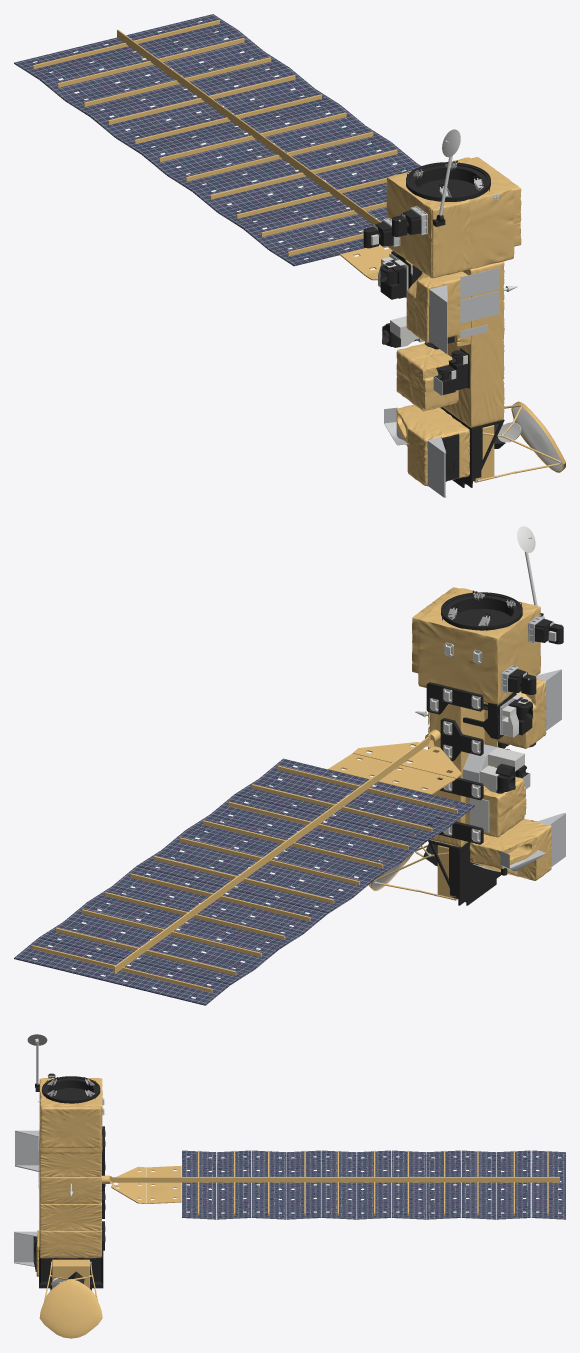
Rendered from aqua.glb.
The picture shows the model from 3 angles, top to bottom: view 1: azimuth 30°, elevation 25°; view 2: azimuth 150°, elevation 25°; view 3: azimuth 270°, elevation 25°; orthographic projection. The views are drawn at different scales.
Visible parts, largest first — view 1: Aqua_Reduced_v0014 [Aqua_Layered_02 [Layer2]], Aqua_Reduced_v0014 [Aqua_Layered_02 [(unnamed)]], Aqua_Reduced_v0014 [Aqua_Layered_02 [Layer10]], Aqua_Reduced_v0014 [Aqua_Layered_02 [Layer12]], Aqua_Reduced_v0014 [Aqua_Layered_02 [Layer15]]; view 2: Aqua_Reduced_v0014 [Aqua_Layered_02 [Layer2]], Aqua_Reduced_v0014 [Aqua_Layered_02 [(unnamed)]], Aqua_Reduced_v0014 [Aqua_Layered_02 [Layer10]], Aqua_Reduced_v0014 [Aqua_Layered_02 [Layer15]], Aqua_Reduced_v0014 [Aqua_Layered_02 [Layer12]]; view 3: Aqua_Reduced_v0014 [Aqua_Layered_02 [Layer2]], Aqua_Reduced_v0014 [Aqua_Layered_02 [(unnamed)]], Aqua_Reduced_v0014 [Aqua_Layered_02 [Layer10]], Aqua_Reduced_v0014 [Aqua_Layered_02 [Layer12]], Aqua_Reduced_v0014 [Aqua_Layered_02 [Layer15]].
Boxes of the visible parts, left/top/right/bottom form: Aqua_Reduced_v0014 [Aqua_Layered_02 [Layer2]]: left=14, top=14, right=421, bottom=266; Aqua_Reduced_v0014 [Aqua_Layered_02 [(unnamed)]]: left=32, top=20, right=565, bottom=486; Aqua_Reduced_v0014 [Aqua_Layered_02 [Layer10]]: left=363, top=160, right=505, bottom=487; Aqua_Reduced_v0014 [Aqua_Layered_02 [Layer12]]: left=383, top=161, right=561, bottom=497; Aqua_Reduced_v0014 [Aqua_Layered_02 [Layer15]]: left=365, top=129, right=561, bottom=471; Aqua_Reduced_v0014 [Aqua_Layered_02 [Layer2]]: left=14, top=758, right=474, bottom=1005; Aqua_Reduced_v0014 [Aqua_Layered_02 [(unnamed)]]: left=32, top=587, right=551, bottom=992; Aqua_Reduced_v0014 [Aqua_Layered_02 [Layer10]]: left=423, top=590, right=563, bottom=905; Aqua_Reduced_v0014 [Aqua_Layered_02 [Layer15]]: left=372, top=526, right=561, bottom=889; Aqua_Reduced_v0014 [Aqua_Layered_02 [Layer12]]: left=373, top=591, right=565, bottom=899; Aqua_Reduced_v0014 [Aqua_Layered_02 [Layer2]]: left=182, top=1150, right=565, bottom=1219; Aqua_Reduced_v0014 [Aqua_Layered_02 [(unnamed)]]: left=36, top=1078, right=559, bottom=1338; Aqua_Reduced_v0014 [Aqua_Layered_02 [Layer10]]: left=33, top=1073, right=104, bottom=1290; Aqua_Reduced_v0014 [Aqua_Layered_02 [Layer12]]: left=14, top=1078, right=94, bottom=1278; Aqua_Reduced_v0014 [Aqua_Layered_02 [Layer15]]: left=27, top=1034, right=105, bottom=1287.
Bounding box in the file's own units: 4.77 × 8.83 × 16.7.
5 materials, 1 textured.
